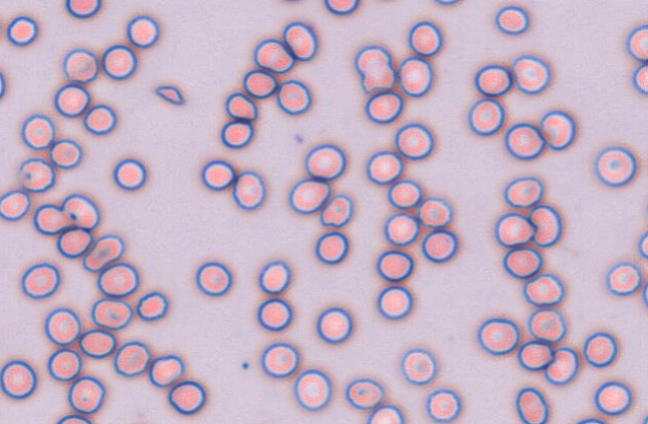RBC: (594, 145, 637, 187), (82, 233, 124, 272), (477, 317, 519, 355), (293, 369, 331, 410), (304, 143, 346, 180), (512, 54, 550, 94), (504, 122, 545, 159), (539, 109, 576, 150), (288, 178, 330, 214), (67, 375, 105, 414), (0, 359, 37, 399), (20, 262, 60, 299), (397, 56, 433, 97), (253, 38, 294, 74), (97, 262, 139, 297), (44, 307, 81, 346), (260, 341, 299, 378), (394, 122, 433, 159), (522, 272, 564, 306), (61, 193, 99, 230), (467, 97, 504, 135), (527, 307, 566, 343), (494, 212, 534, 247), (91, 297, 133, 330), (113, 340, 150, 377), (544, 346, 579, 385), (282, 21, 317, 60), (232, 170, 266, 210), (316, 306, 352, 343), (400, 348, 436, 385), (594, 380, 632, 415), (167, 380, 206, 414), (502, 246, 542, 279), (344, 377, 384, 410), (101, 44, 137, 80), (18, 157, 55, 192), (62, 48, 99, 83), (20, 113, 55, 150), (195, 261, 232, 296), (365, 150, 403, 184), (503, 176, 543, 208), (582, 331, 617, 367), (276, 79, 311, 115), (605, 261, 642, 295), (365, 90, 403, 123), (33, 203, 72, 235), (383, 212, 419, 246), (54, 83, 90, 117), (425, 388, 461, 422), (376, 285, 412, 319), (408, 20, 442, 56), (421, 229, 458, 262), (376, 249, 413, 282), (354, 44, 392, 76), (474, 64, 512, 96), (515, 387, 548, 423), (148, 354, 184, 387), (256, 298, 292, 331), (47, 348, 82, 381), (517, 340, 554, 371), (314, 231, 348, 264), (258, 260, 291, 294), (126, 14, 159, 48), (417, 196, 452, 228), (56, 227, 92, 258), (79, 328, 116, 358), (112, 158, 146, 190), (201, 159, 235, 190), (387, 179, 422, 209), (49, 138, 82, 169), (6, 15, 38, 46), (83, 104, 116, 134), (242, 69, 276, 98), (495, 5, 529, 34), (0, 189, 30, 221), (136, 291, 168, 321), (224, 92, 257, 121), (220, 119, 253, 148), (626, 24, 648, 61), (366, 404, 404, 423), (65, 0, 101, 18), (323, 0, 359, 15), (632, 63, 648, 94), (56, 414, 92, 424), (637, 230, 648, 259), (573, 417, 606, 424), (642, 278, 648, 308), (0, 70, 5, 100), (433, 0, 463, 5), (372, 0, 404, 3), (641, 413, 647, 424), (0, 11, 2, 41), (0, 322, 2, 351), (278, 0, 306, 2), (646, 195, 648, 223)
Schistocyte: (529, 206, 561, 248), (323, 194, 352, 227), (363, 68, 397, 93), (155, 85, 185, 106)
